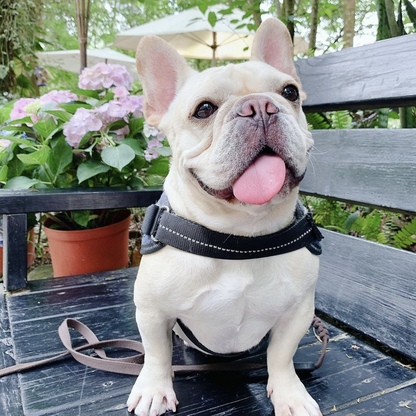bulldog: (123, 16, 326, 416)
